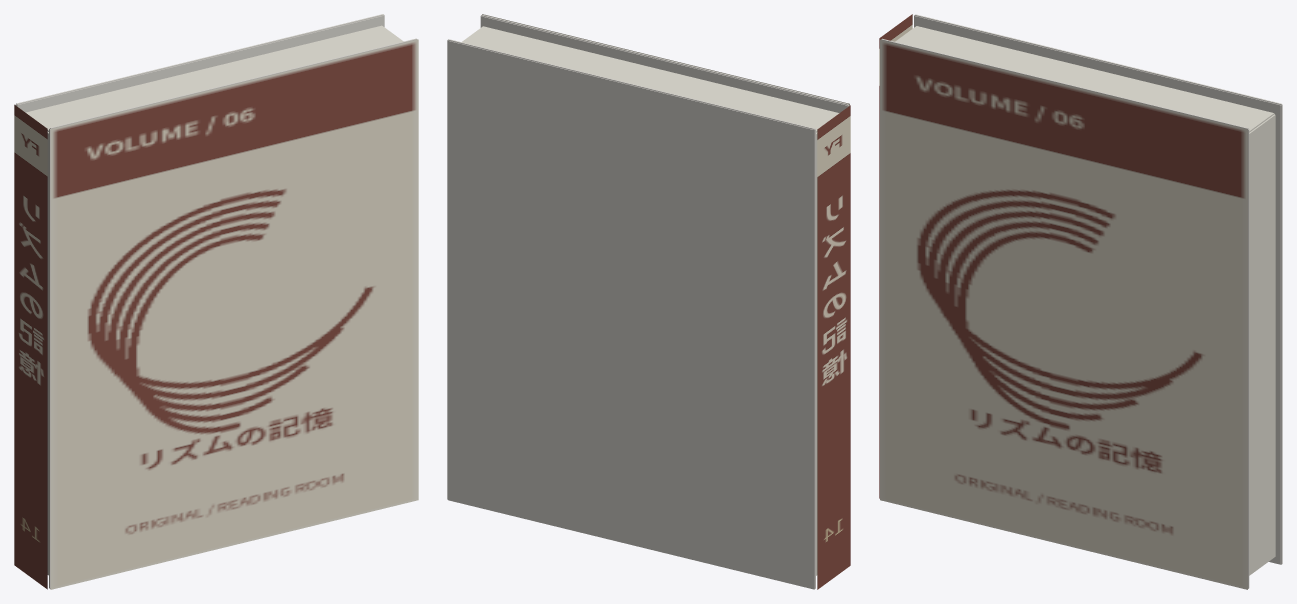
Rendered from sku_v23_book_6_B.glb.
3 renders of one model, left to right at view 1: azimuth 30°, elevation 25°; view 2: azimuth 150°, elevation 25°; view 3: azimuth 330°, elevation 25°, orthographic.
Visible parts, largest first — view 1: sku_v23_book_6_B_V23_original_companions, sku_v23_book_6_B_V23_printed_genre_spines, sku_v23_book_6_B_Paper_page_edges, sku_v23_book_6_B_Warm_white_coating; view 2: sku_v23_book_6_B_Warm_white_coating, sku_v23_book_6_B_V23_printed_genre_spines, sku_v23_book_6_B_Paper_page_edges; view 3: sku_v23_book_6_B_V23_original_companions, sku_v23_book_6_B_Paper_page_edges, sku_v23_book_6_B_Warm_white_coating, sku_v23_book_6_B_V23_printed_genre_spines.
Boxes of the visible parts, x1,y1,x2,y2 form: sku_v23_book_6_B_V23_original_companions: (50,39,418,589); sku_v23_book_6_B_V23_printed_genre_spines: (14,104,47,589); sku_v23_book_6_B_Paper_page_edges: (25,25,403,575); sku_v23_book_6_B_Warm_white_coating: (15,14,417,588); sku_v23_book_6_B_Warm_white_coating: (447,14,849,589); sku_v23_book_6_B_V23_printed_genre_spines: (817,105,850,589); sku_v23_book_6_B_Paper_page_edges: (461,26,839,575); sku_v23_book_6_B_V23_original_companions: (880,39,1247,589); sku_v23_book_6_B_Paper_page_edges: (895,26,1275,575); sku_v23_book_6_B_Warm_white_coating: (881,14,1282,588); sku_v23_book_6_B_V23_printed_genre_spines: (879,14,912,498).
Bounding box in the file's own units: 0.1936 × 0.2304 × 0.032.
4 materials, 2 textured.
